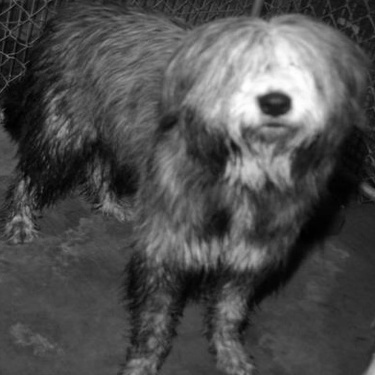dog: (1, 4, 371, 371)
